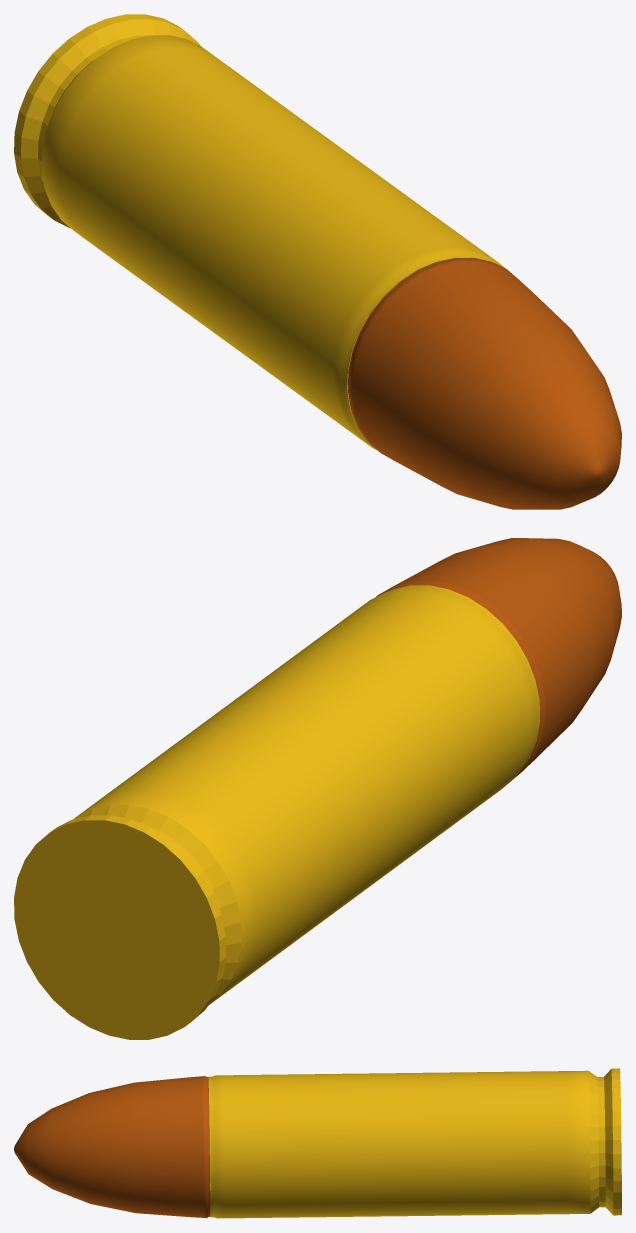
File: Bullet (2).fbx
3 renders of one model, top to bottom at view 1: azimuth 30°, elevation 25°; view 2: azimuth 150°, elevation 25°; view 3: azimuth 270°, elevation 25°, orthographic. The views are drawn at different scales.
Visible parts, largest first — view 1: Ammo Bottom, Ammo Top; view 2: Ammo Bottom, Ammo Top; view 3: Ammo Bottom, Ammo Top.
Part boxes in pixels (left/top/right/bottom): Ammo Bottom: left=14, top=14, right=505, bottom=450; Ammo Top: left=347, top=258, right=621, bottom=509; Ammo Bottom: left=14, top=585, right=539, bottom=1039; Ammo Top: left=376, top=538, right=621, bottom=781; Ammo Bottom: left=208, top=1068, right=621, bottom=1218; Ammo Top: left=14, top=1076, right=210, bottom=1218.
Size of the model in its own units: 16.71 by 16.54 by 67.94.
